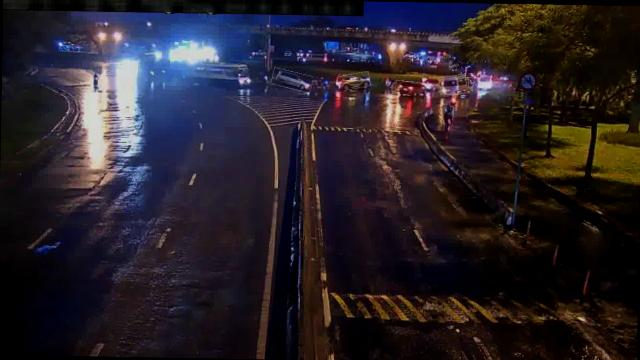Bike: (442, 102, 452, 126)
Bus: (439, 74, 466, 95)
Car: (271, 69, 312, 90), (338, 72, 370, 90), (394, 80, 420, 94)
